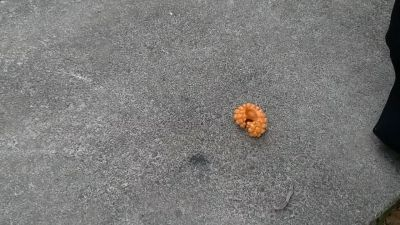eggs: (232, 101, 268, 139)
